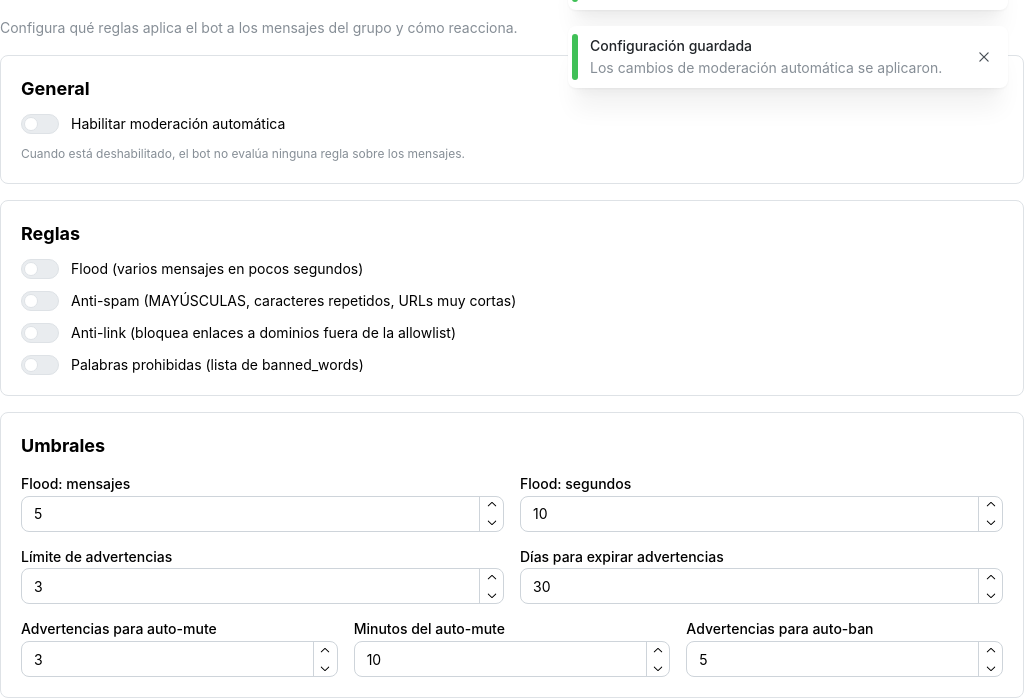
Test: GroupAutomationPage › error en el PUT de settings muestra notifyError
Click the switch labelled "Habilitar moderación automática": (153, 124) [21, 114, 285, 134]
(page scrolled)
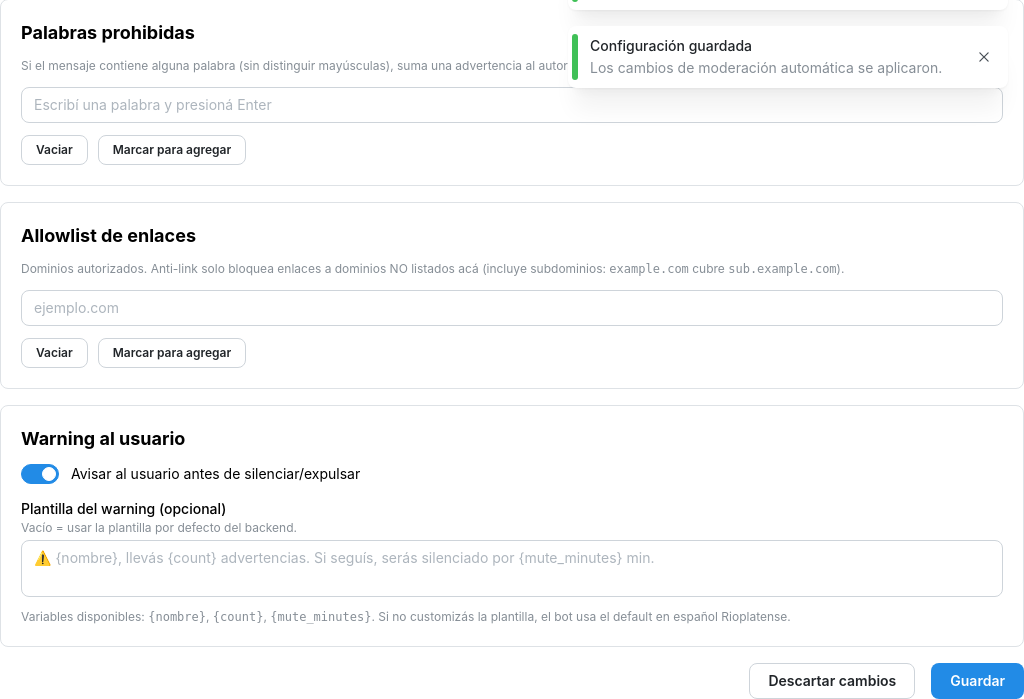
expect the button "Guardar" is enabled: met
Click the button "Guardar": (978, 681) [931, 663, 1023, 698]
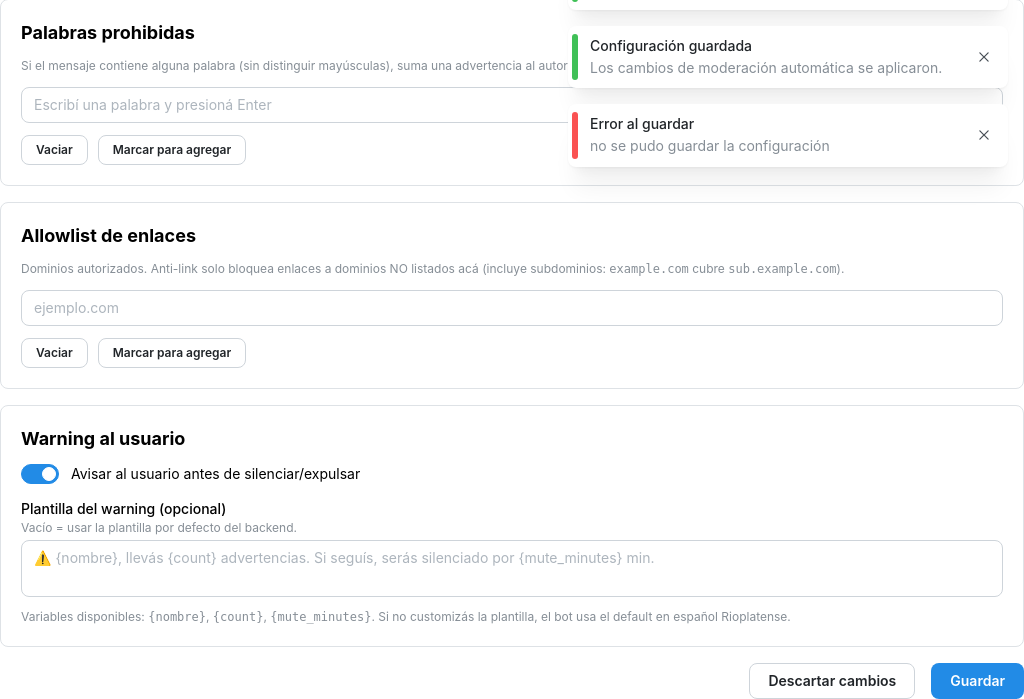
expect the text "no se pudo guardar la configuración" is shown: met, box [590, 138, 830, 154]
